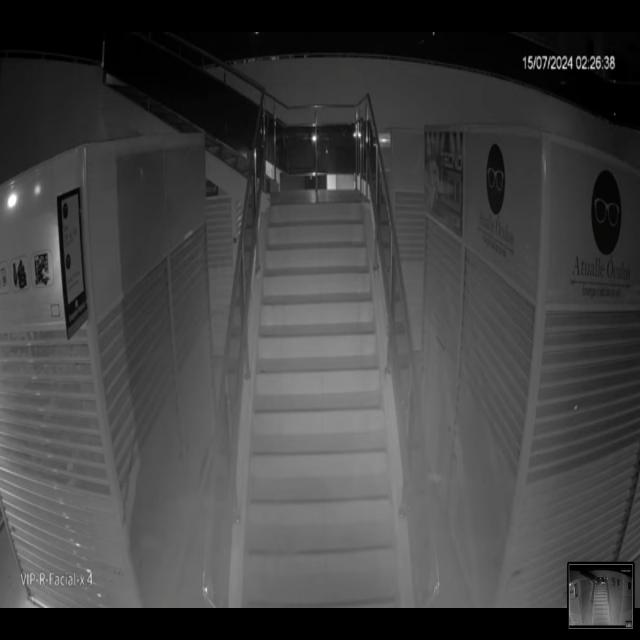Atencao: (171, 270, 523, 601)
